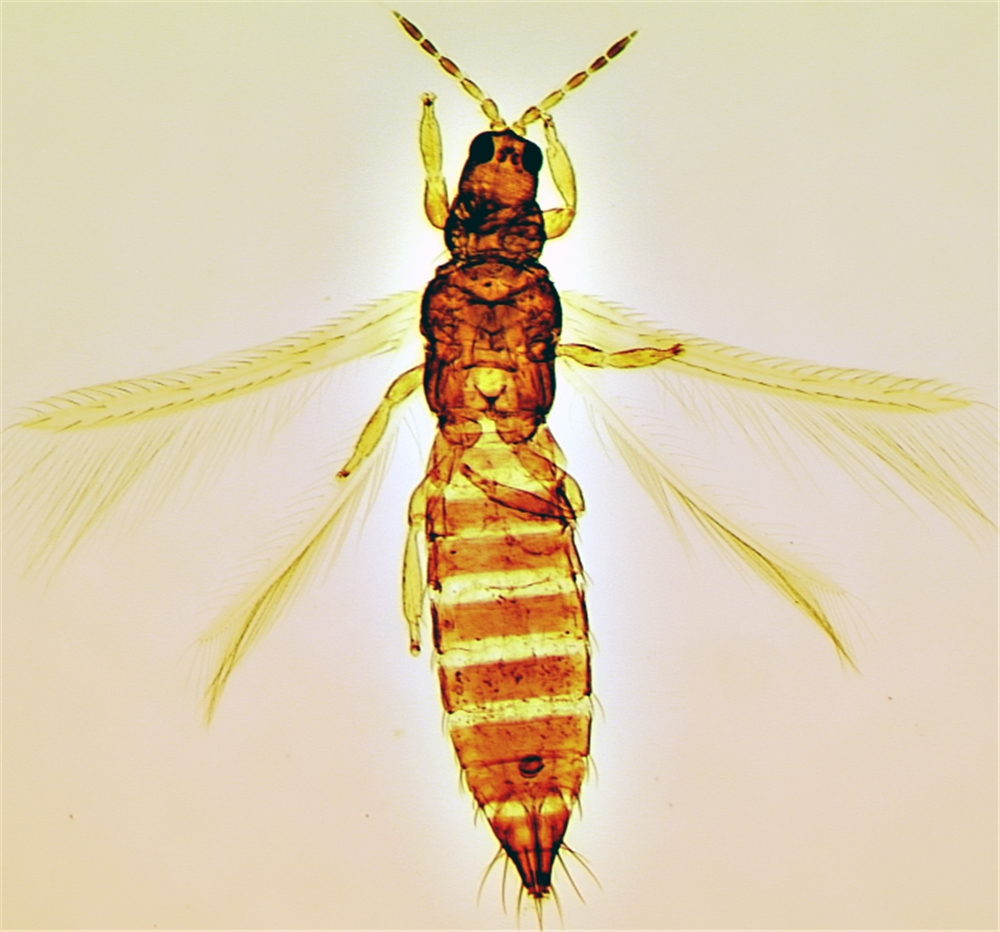Thripidae: (9, 15, 1000, 922)
